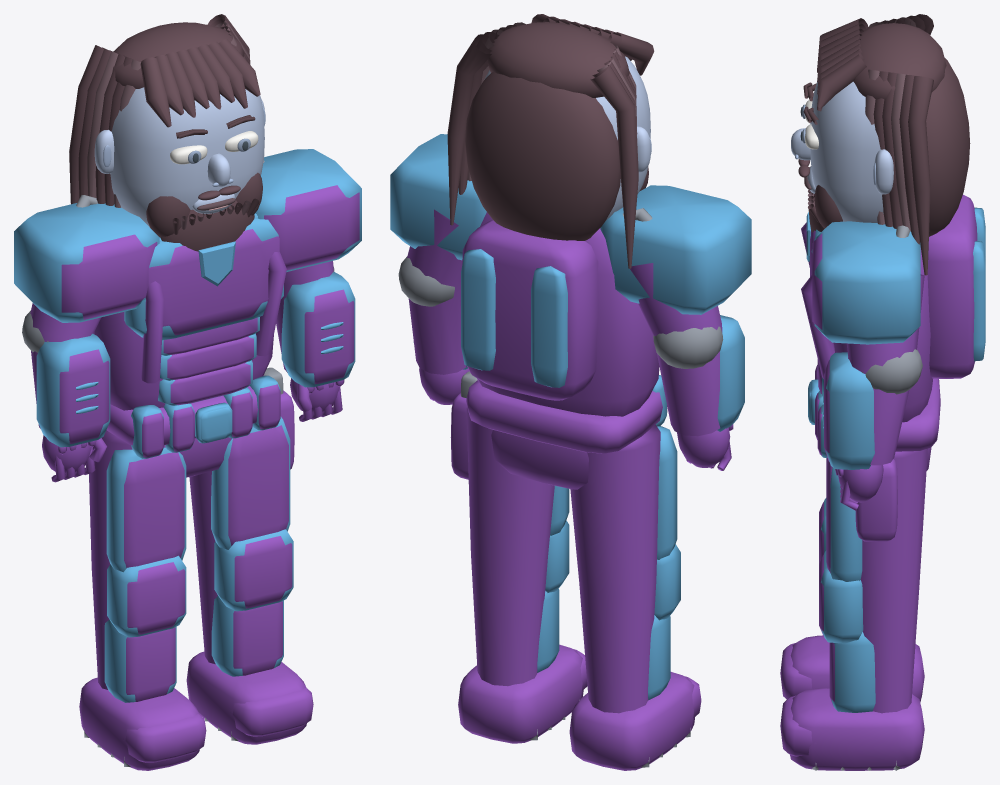
File: CHOMPY_SOLDIER.glb
The picture shows the model from 3 angles, left to right: view 1: azimuth 30°, elevation 25°; view 2: azimuth 150°, elevation 25°; view 3: azimuth 270°, elevation 25°; orthographic projection. The views are drawn at different scales.
Parts seen in each view (by area): view 1: Face, Shoulder leftArm rim, Breastplate armour, Thigh leftLeg armour, Thigh rightLeg armour, Shoulder leftArm armour, Shoulder rightArm armour, Boot leftLeg, Boot rightLeg, Shoulder rightArm rim, Undersuit torso, Forearm rightArm armour (+56 smaller); view 2: Long hair back, Trouser leg leftLeg, Trouser leg rightLeg, Shoulder leftArm rim, Backpack, Undersuit torso, Boot leftLeg, Boot rightLeg, Belt, Hair crown, Shoulder rightArm rim, Sleeve leftArm (+21 smaller); view 3: Shoulder rightArm rim, Trouser leg rightLeg, Boot rightLeg, Backpack, Face, Long hair back, Forearm rightArm rim, Hair crown, Sleeve rightArm, Long hair layered strand 15, Shin rightLeg rim, Thigh rightLeg rim (+23 smaller).
Part boxes in pixels (x1,y1,x2,y2): Face: [110, 87, 264, 227]; Shoulder leftArm rim: [14, 203, 159, 322]; Breastplate armour: [148, 229, 279, 335]; Thigh leftLeg armour: [124, 452, 184, 567]; Thigh rightLeg armour: [228, 425, 288, 545]; Shoulder leftArm armour: [61, 234, 157, 319]; Shoulder rightArm armour: [264, 185, 359, 270]; Boot leftLeg: [79, 677, 199, 770]; Boot rightLeg: [186, 651, 306, 744]; Shoulder rightArm rim: [255, 149, 361, 271]; Undersuit torso: [94, 312, 273, 410]; Forearm rightArm armour: [304, 289, 354, 383]; Long hair back: [465, 72, 620, 240]; Trouser leg leftLeg: [570, 424, 660, 713]; Trouser leg rightLeg: [466, 407, 554, 686]; Shoulder leftArm rim: [600, 185, 751, 314]; Backpack: [460, 220, 598, 400]; Undersuit torso: [477, 212, 659, 416]; Boot leftLeg: [569, 672, 694, 770]; Boot rightLeg: [458, 644, 583, 743]; Belt: [466, 380, 662, 453]; Hair crown: [487, 22, 629, 97]; Shoulder rightArm rim: [390, 134, 486, 260]; Sleeve leftArm: [630, 263, 722, 436]; Shoulder rightArm rim: [814, 221, 920, 344]; Trouser leg rightLeg: [860, 448, 927, 713]; Boot rightLeg: [790, 688, 924, 770]; Backpack: [927, 194, 977, 378]; Face: [810, 81, 883, 222]; Long hair back: [926, 58, 970, 236]; Forearm rightArm rim: [826, 352, 874, 469]; Hair crown: [853, 23, 946, 99]; Sleeve rightArm: [846, 274, 924, 465]; Long hair layered strand 15: [908, 76, 933, 275]; Shin rightLeg rim: [831, 632, 875, 712]; Thigh rightLeg rim: [830, 467, 862, 581].
Size of the model in its own units: 0.9551 by 2.01 by 0.5356.
